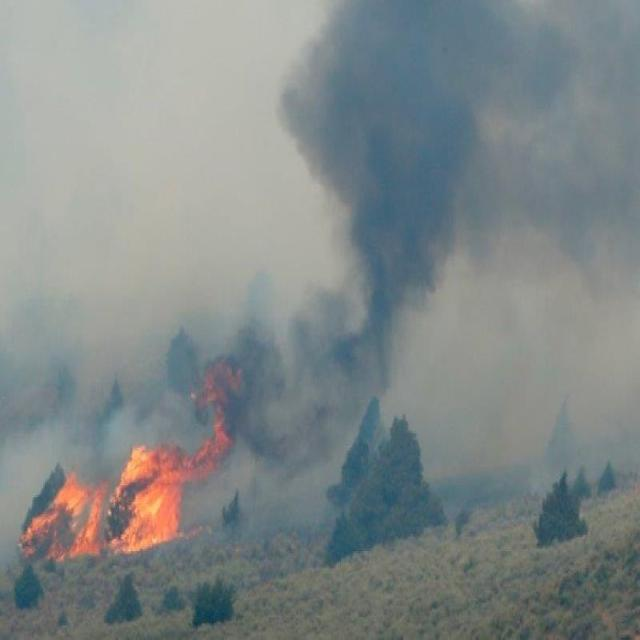Fire: (17, 358, 244, 564)
Smoke: (1, 1, 640, 566)
